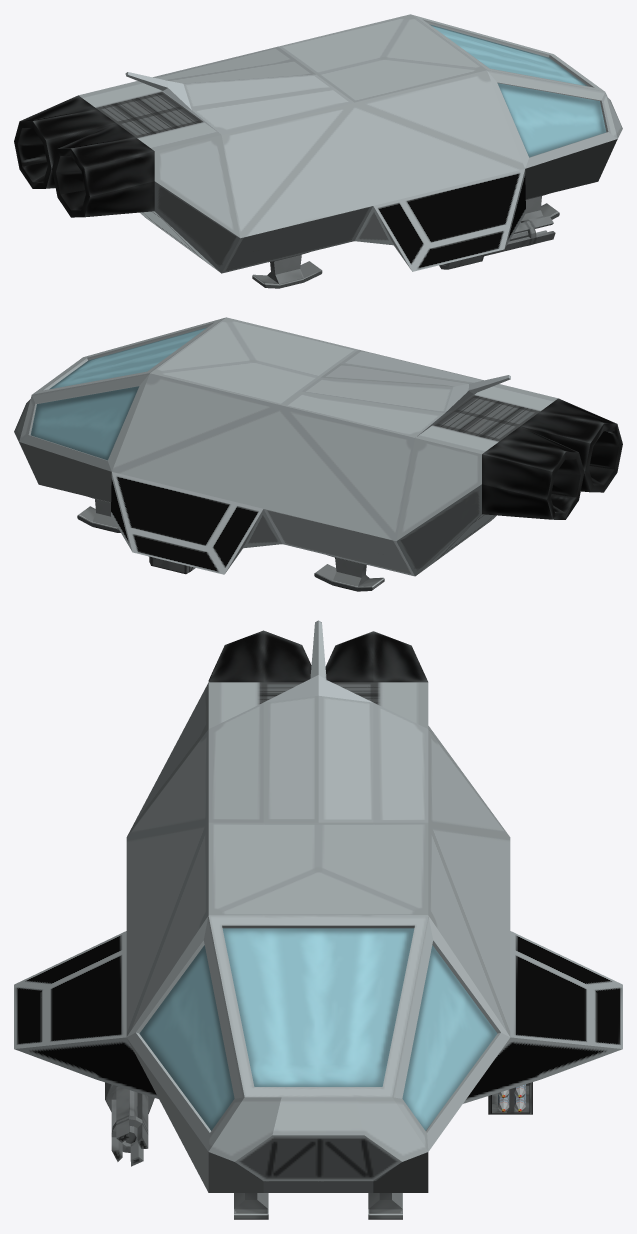
Rendered from Ship_2.fbx.
3 views of the same model, one above another, from view 1: azimuth 30°, elevation 25°; view 2: azimuth 150°, elevation 25°; view 3: azimuth 270°, elevation 25° (orthographic). The views are drawn at different scales.
Visible parts, largest first — view 1: Ship_2, Leg.001, Barrel, Leg.000, Gun; view 2: Ship_2, Leg.003, Leg.002, MissileLauncher; view 3: Ship_2, Barrel, Leg.000, Leg.002.
Part boxes in pixels (x1,y1,x2,y2): Ship_2: [14, 14, 622, 273]; Leg.001: [252, 252, 322, 288]; Barrel: [484, 215, 555, 256]; Leg.000: [521, 194, 559, 220]; Gun: [439, 231, 528, 269]; Ship_2: [14, 317, 622, 576]; Leg.003: [314, 555, 384, 591]; Leg.002: [77, 497, 120, 532]; MissileLauncher: [149, 556, 195, 574]; Ship_2: [14, 620, 622, 1192]; Barrel: [111, 1086, 148, 1166]; Leg.000: [234, 1193, 268, 1219]; Leg.002: [368, 1193, 402, 1219].
Bounding box in the file's own units: 554 × 820 × 325.
